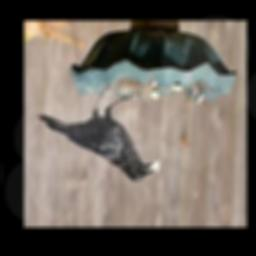Crow: (36, 86, 158, 183)
